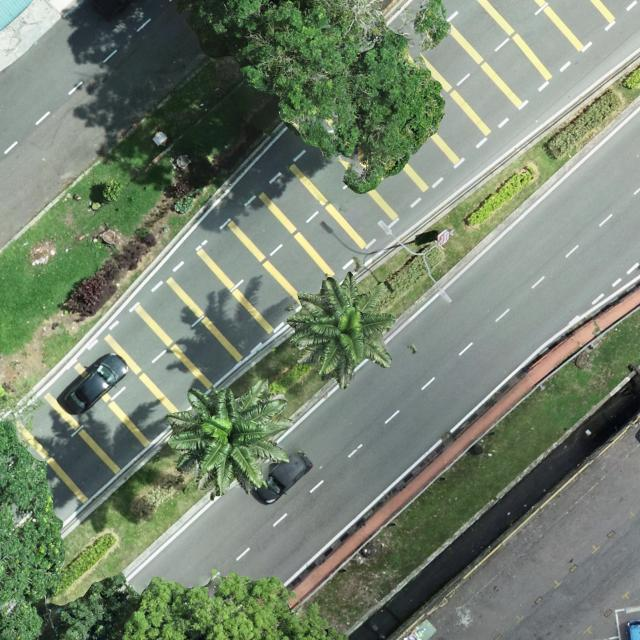Tree: (277, 27, 451, 197), (121, 570, 368, 640), (166, 377, 295, 498), (0, 418, 69, 640), (286, 270, 397, 389), (235, 1, 355, 94), (296, 0, 452, 61), (7, 572, 144, 640), (177, 0, 317, 62)
